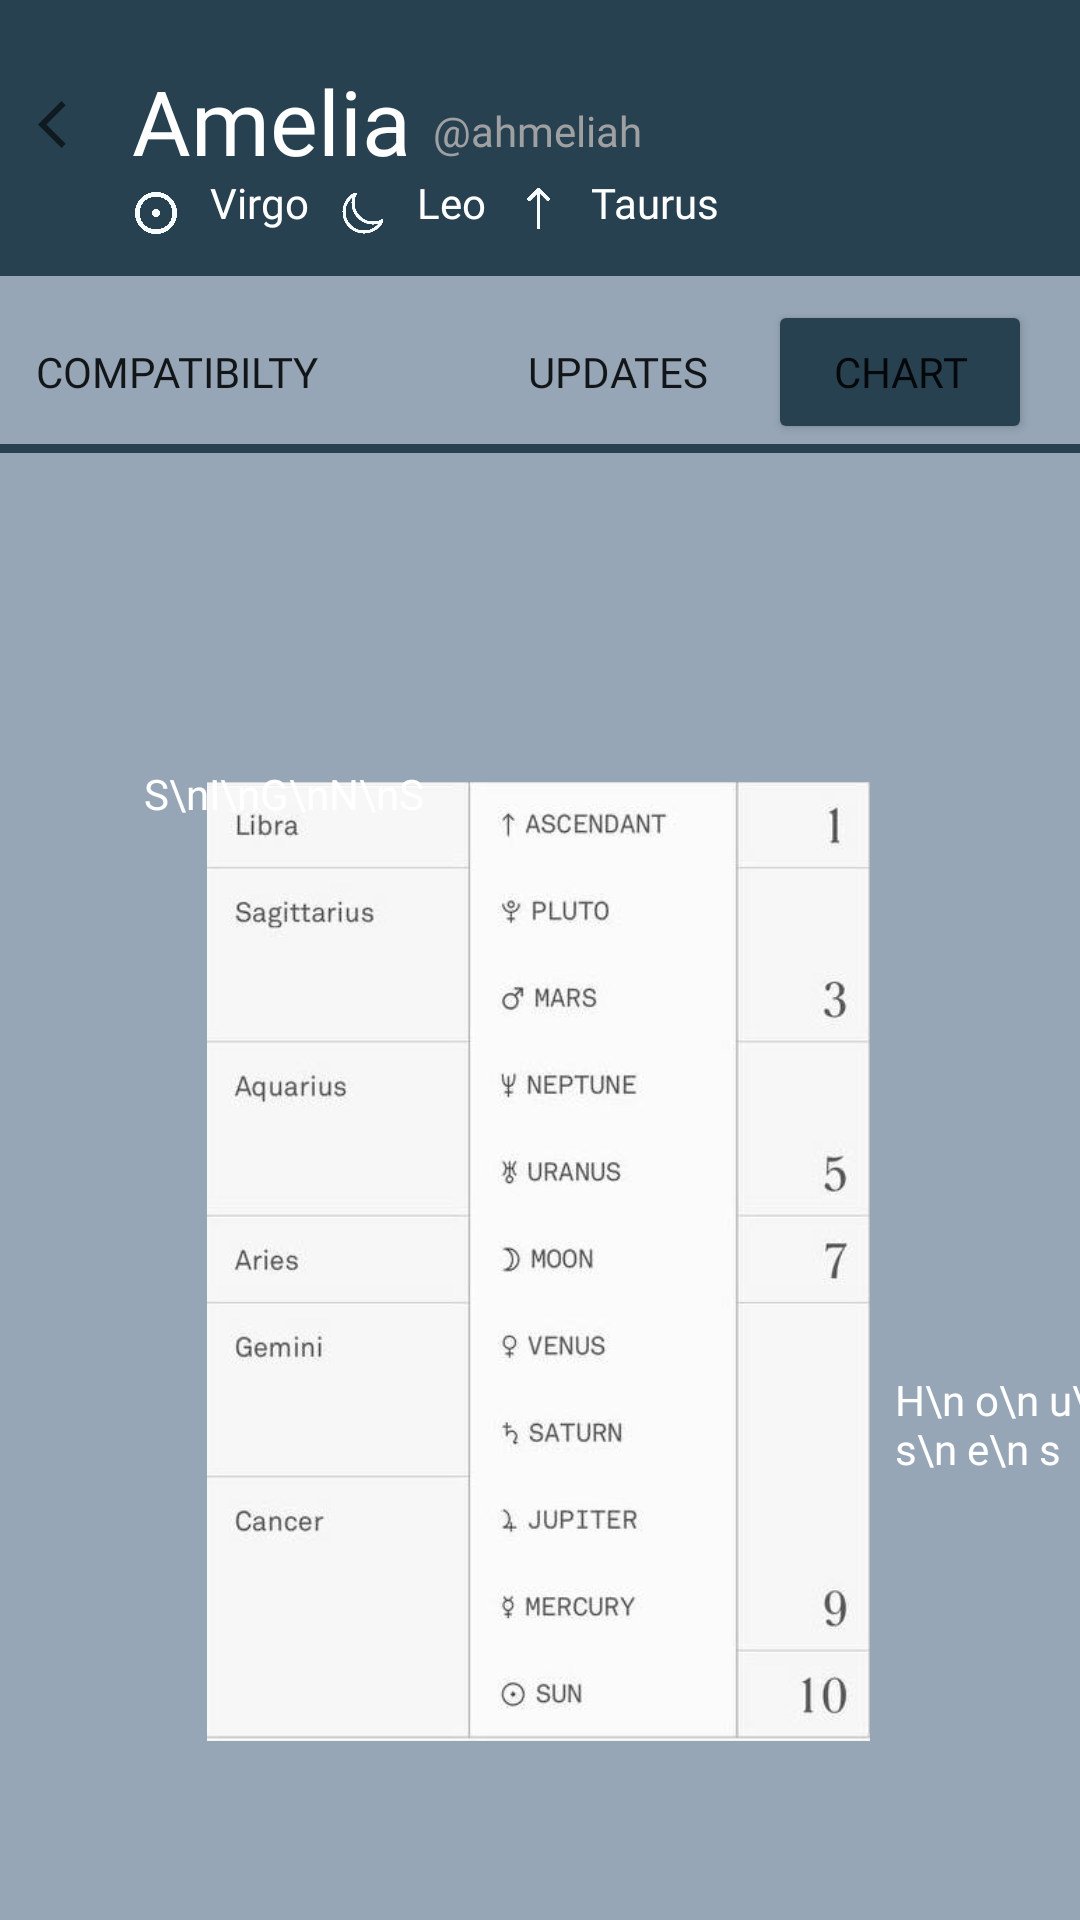

Named icons in this screenshot (1080×1920) and their centers, (x=x, y=y):
backicon: (x=51, y=124)
circle dot: (x=156, y=213)
moon: (x=362, y=213)
up arrow: (x=538, y=208)
